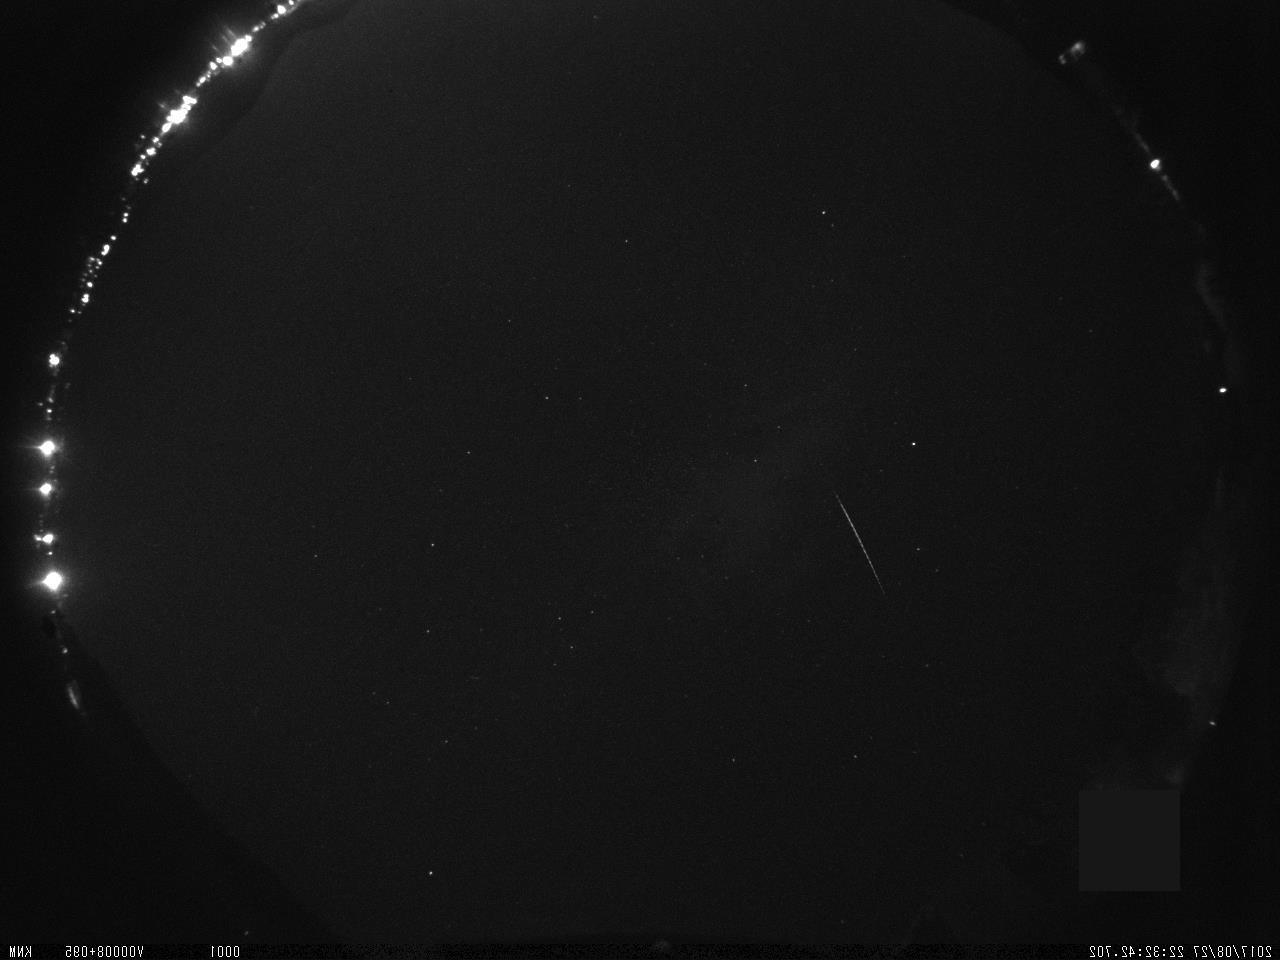meteor: (823, 483, 893, 601)
